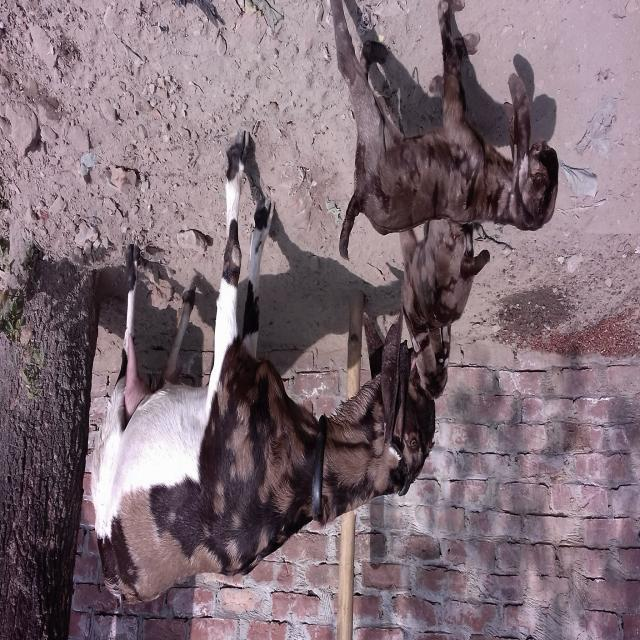Goat: (91, 130, 437, 607), (330, 2, 559, 262), (399, 219, 491, 403)
